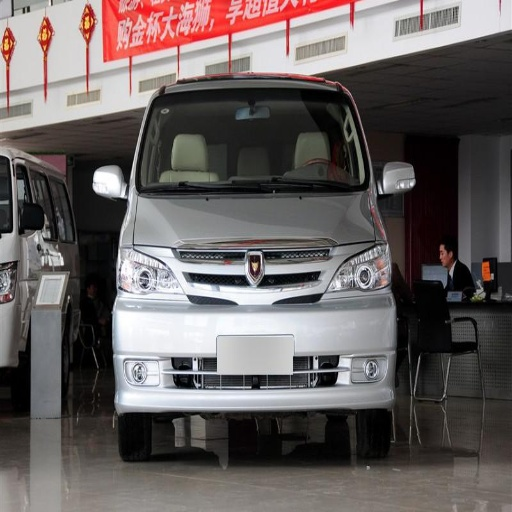front_bumper: (116, 243, 393, 411)
front_right_light: (118, 246, 181, 298)
hood: (134, 192, 375, 253)
left_mirror: (378, 161, 416, 200)
